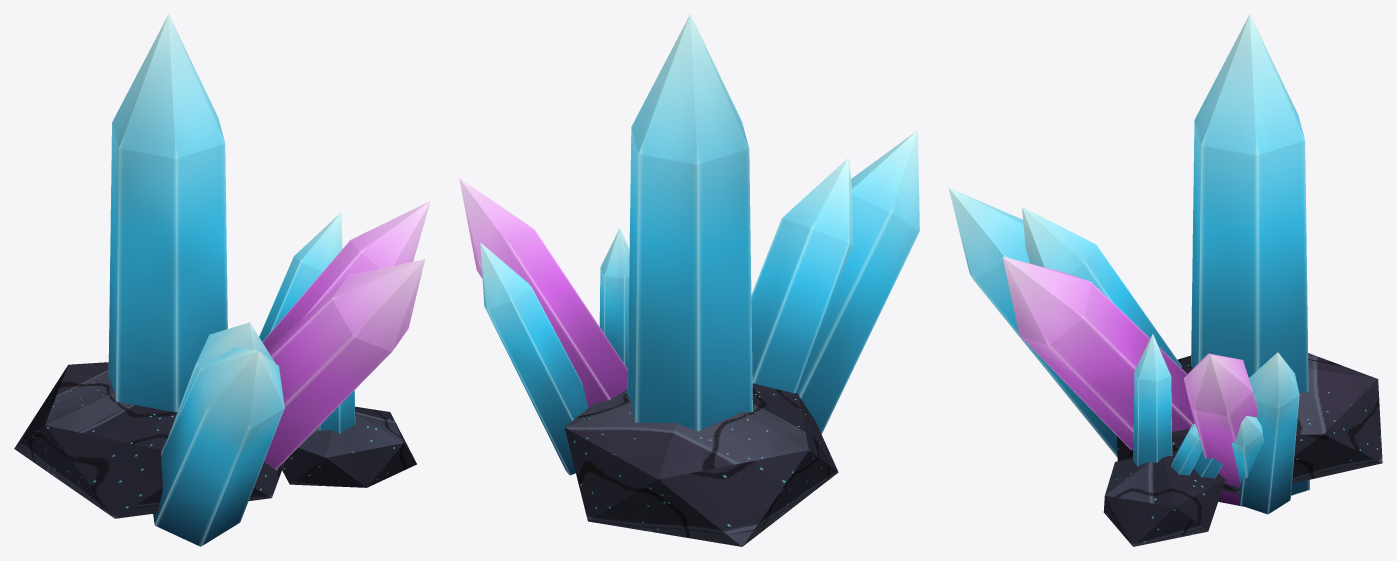
Rendered from crystal_spire_cyan.glb.
3 renders of one model, left to right at view 1: azimuth 30°, elevation 25°; view 2: azimuth 150°, elevation 25°; view 3: azimuth 270°, elevation 25°, orthographic. The views are drawn at different scales.
Parts seen in each view (by area): view 1: crystal_spire_cyan; view 2: crystal_spire_cyan; view 3: crystal_spire_cyan.
Boxes of the visible parts, x1,y1,x2,y2 form: crystal_spire_cyan: (14, 14, 430, 546); crystal_spire_cyan: (459, 14, 919, 546); crystal_spire_cyan: (948, 14, 1382, 546).
Bounding box in the file's own units: 2.31 × 2.95 × 2.46.
Materials: 3 (3 with a texture image).
